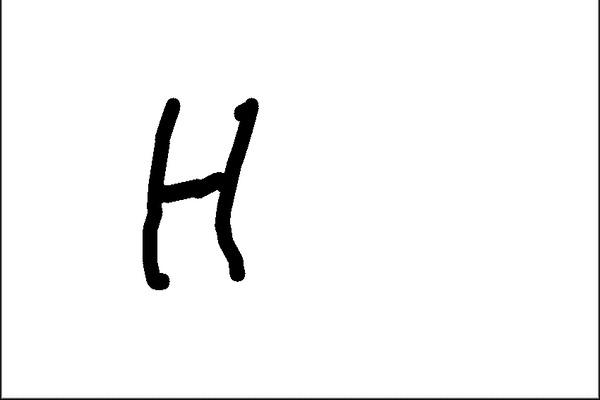H: (135, 91, 265, 293)
